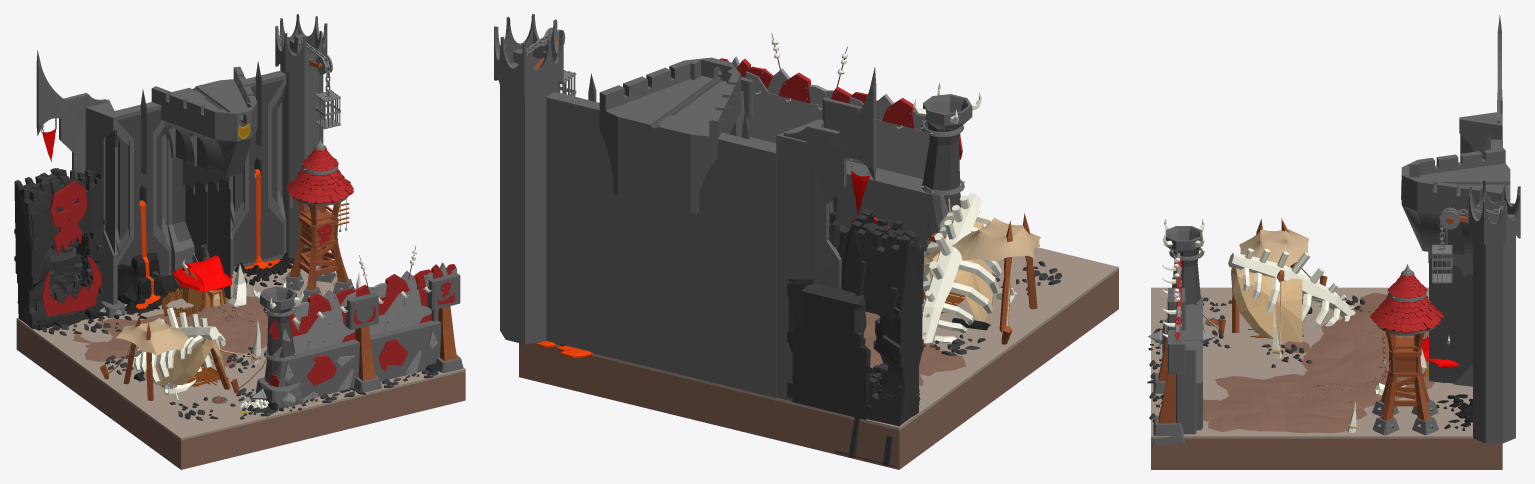
File: Dark_Fantasy.fbx
3 views of the same model, side by side, from view 1: azimuth 30°, elevation 25°; view 2: azimuth 150°, elevation 25°; view 3: azimuth 270°, elevation 25° (orthographic). The views are drawn at different scales.
Parts seen in each view (by area): view 1: Cube (1), Cube, Prop_Building_Dark_Fantasy_Fort_Wall_Window_01 (1), Prop_Building_Dark_Fantasy_Fort_Outcrop_01, Prop_Building_Dark_Fantasy_Fort_Wall_Window_01 (2), Prop_Building_Dark_Fantasy_Fort_Tower_Simple_01, Rock_Volcanic_Large_03 (1), Prop_Building_Dark_Fantasy_Fort_Divider_02, Prop_Building_Dark_Fantasy_Fort_Divider_01, Prop_Building_Dark_Fantasy_Fort_Adornment_Large_01, Prop_Building_Savage_Metal_Collar_Base_Attachment_09, Prop_Building_Dark_Fantasy_Fort_Wall_Simple_01 (+42 smaller); view 2: Cube (1), Prop_Building_Dark_Fantasy_Fort_Wall_Window_01 (1), Prop_Building_Dark_Fantasy_Fort_Wall_Window_01 (2), Prop_Building_Dark_Fantasy_Fort_Outcrop_01, Prop_Building_Dark_Fantasy_Fort_Wall_Simple_01, Prop_Building_Dark_Fantasy_Fort_Tower_Simple_01, Cube, Rock_Volcanic_Large_03 (4), Rock_Volcanic_Large_03 (1), Prop_Building_Dark_Fantasy_Fort_Adornment_Large_01, Prop_Building_Dark_Fantasy_Fort_Divider_01, Prop_Bones_Beast_Ribs_Spined_01 (+16 smaller); view 3: Cube, Cube (1), Prop_Building_Dark_Fantasy_Fort_Tower_Simple_01, Prop_Building_Dark_Fantasy_Fort_Outcrop_01, Prop_Building_Dark_Fantasy_Fort_Divider_02, Prop_Bones_Beast_Ribs_Spined_01, Terrain_Plane_Rock_Uneven_02 (4), Prop_Tent_Entrance_Cloth_Hide_01, Terrain_Plane_Rock_Uneven_02 (3), Terrain_Plane_Rock_Uneven_02 (5), Terrain_Plane_Rock_Uneven_02 (2), Prop_Building_Dark_Fantasy_Fort_Tower_Top_01 (+21 smaller).
Boxes of the visible parts, x1=… form: Cube (1): x1=16, y1=320, x2=465, y2=469; Cube: x1=16, y1=263, x2=465, y2=440; Prop_Building_Dark_Fantasy_Fort_Wall_Window_01 (1): x1=115, y1=102, x2=171, y2=276; Prop_Building_Dark_Fantasy_Fort_Outcrop_01: x1=151, y1=66, x2=257, y2=177; Prop_Building_Dark_Fantasy_Fort_Wall_Window_01 (2): x1=230, y1=70, x2=286, y2=270; Prop_Building_Dark_Fantasy_Fort_Tower_Simple_01: x1=280, y1=65, x2=323, y2=258; Rock_Volcanic_Large_03 (1): x1=14, y1=168, x2=103, y2=249; Prop_Building_Dark_Fantasy_Fort_Divider_02: x1=183, y1=160, x2=232, y2=299; Prop_Building_Dark_Fantasy_Fort_Divider_01: x1=85, y1=99, x2=117, y2=304; Prop_Building_Dark_Fantasy_Fort_Adornment_Large_01: x1=36, y1=50, x2=88, y2=177; Prop_Building_Savage_Metal_Collar_Base_Attachment_09: x1=264, y1=339, x2=359, y2=398; Prop_Building_Dark_Fantasy_Fort_Wall_Simple_01: x1=167, y1=91, x2=233, y2=285; Cube (1): x1=519, y1=270, x2=1118, y2=469; Prop_Building_Dark_Fantasy_Fort_Wall_Window_01 (1): x1=700, y1=132, x2=776, y2=397; Prop_Building_Dark_Fantasy_Fort_Wall_Window_01 (2): x1=546, y1=91, x2=622, y2=360; Prop_Building_Dark_Fantasy_Fort_Outcrop_01: x1=599, y1=57, x2=740, y2=213; Prop_Building_Dark_Fantasy_Fort_Wall_Simple_01: x1=622, y1=115, x2=699, y2=379; Prop_Building_Dark_Fantasy_Fort_Tower_Simple_01: x1=500, y1=81, x2=557, y2=344; Cube: x1=556, y1=247, x2=1118, y2=430; Rock_Volcanic_Large_03 (4): x1=787, y1=283, x2=875, y2=419; Rock_Volcanic_Large_03 (1): x1=828, y1=208, x2=924, y2=319; Prop_Building_Dark_Fantasy_Fort_Adornment_Large_01: x1=806, y1=67, x2=876, y2=288; Prop_Building_Dark_Fantasy_Fort_Divider_01: x1=776, y1=119, x2=823, y2=401; Prop_Bones_Beast_Ribs_Spined_01: x1=922, y1=193, x2=1001, y2=343; Cube: x1=1151, y1=287, x2=1473, y2=438; Cube (1): x1=1151, y1=438, x2=1502, y2=469; Prop_Building_Dark_Fantasy_Fort_Tower_Simple_01: x1=1473, y1=235, x2=1515, y2=443; Prop_Building_Dark_Fantasy_Fort_Outcrop_01: x1=1401, y1=148, x2=1510, y2=257; Prop_Building_Dark_Fantasy_Fort_Divider_02: x1=1428, y1=252, x2=1472, y2=386; Prop_Bones_Beast_Ribs_Spined_01: x1=1228, y1=248, x2=1355, y2=328; Terrain_Plane_Rock_Uneven_02 (4): x1=1203, y1=374, x2=1366, y2=421; Prop_Tent_Entrance_Cloth_Hide_01: x1=1231, y1=268, x2=1302, y2=342; Terrain_Plane_Rock_Uneven_02 (3): x1=1284, y1=320, x2=1428, y2=382; Terrain_Plane_Rock_Uneven_02 (5): x1=1208, y1=389, x2=1350, y2=438; Terrain_Plane_Rock_Uneven_02 (2): x1=1291, y1=368, x2=1434, y2=409; Prop_Building_Dark_Fantasy_Fort_Tower_Top_01: x1=1468, y1=180, x2=1520, y2=244.
Size of the model in its own units: 23.66 by 21.91 by 23.36.
